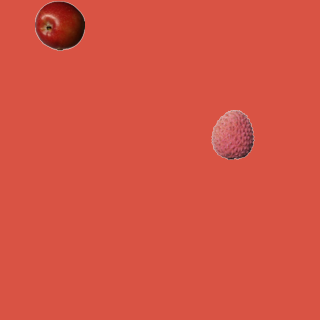Apple Braeburn: (34, 0, 84, 50)
Lychee: (207, 109, 257, 159)
